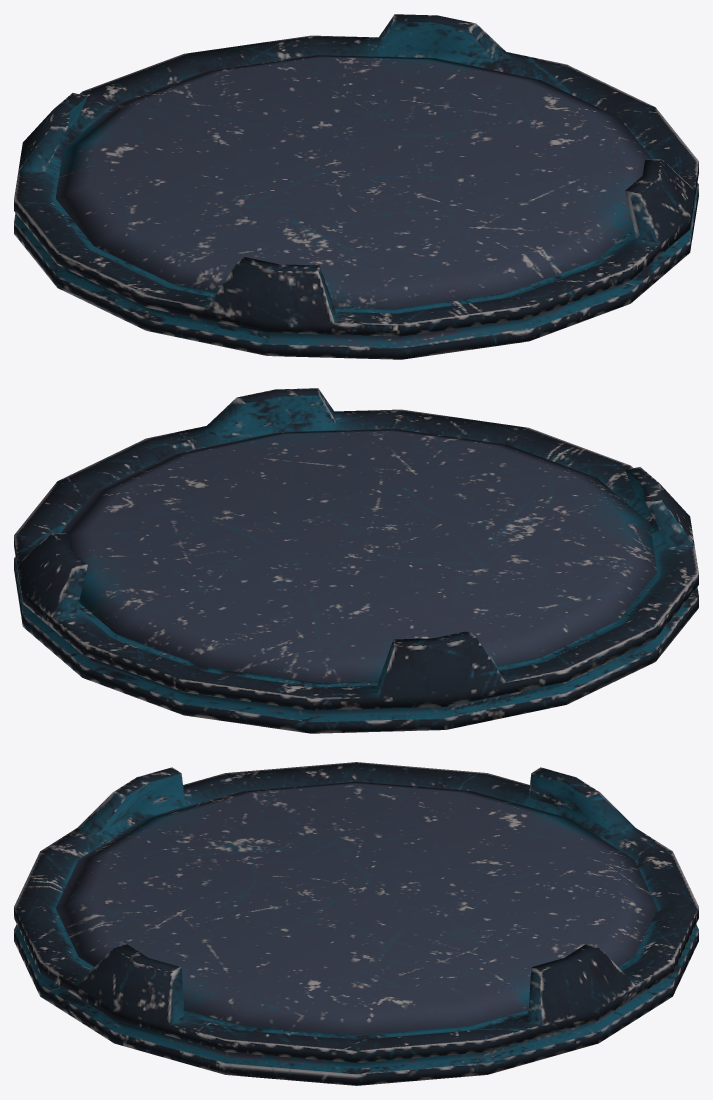
File: platform.gltf
3 renders of one model, top to bottom at view 1: azimuth 30°, elevation 25°; view 2: azimuth 150°, elevation 25°; view 3: azimuth 270°, elevation 25°, orthographic.
Visible parts, largest first — view 1: Cylinder; view 2: Cylinder; view 3: Cylinder.
Part boxes in pixels (<box>): Cylinder: <box>14,14,698,359</box>; Cylinder: <box>14,388,698,733</box>; Cylinder: <box>14,762,698,1085</box>.
Bounding box in the file's own units: 3.68 × 0.4206 × 3.68.
1 material, 1 textured.
